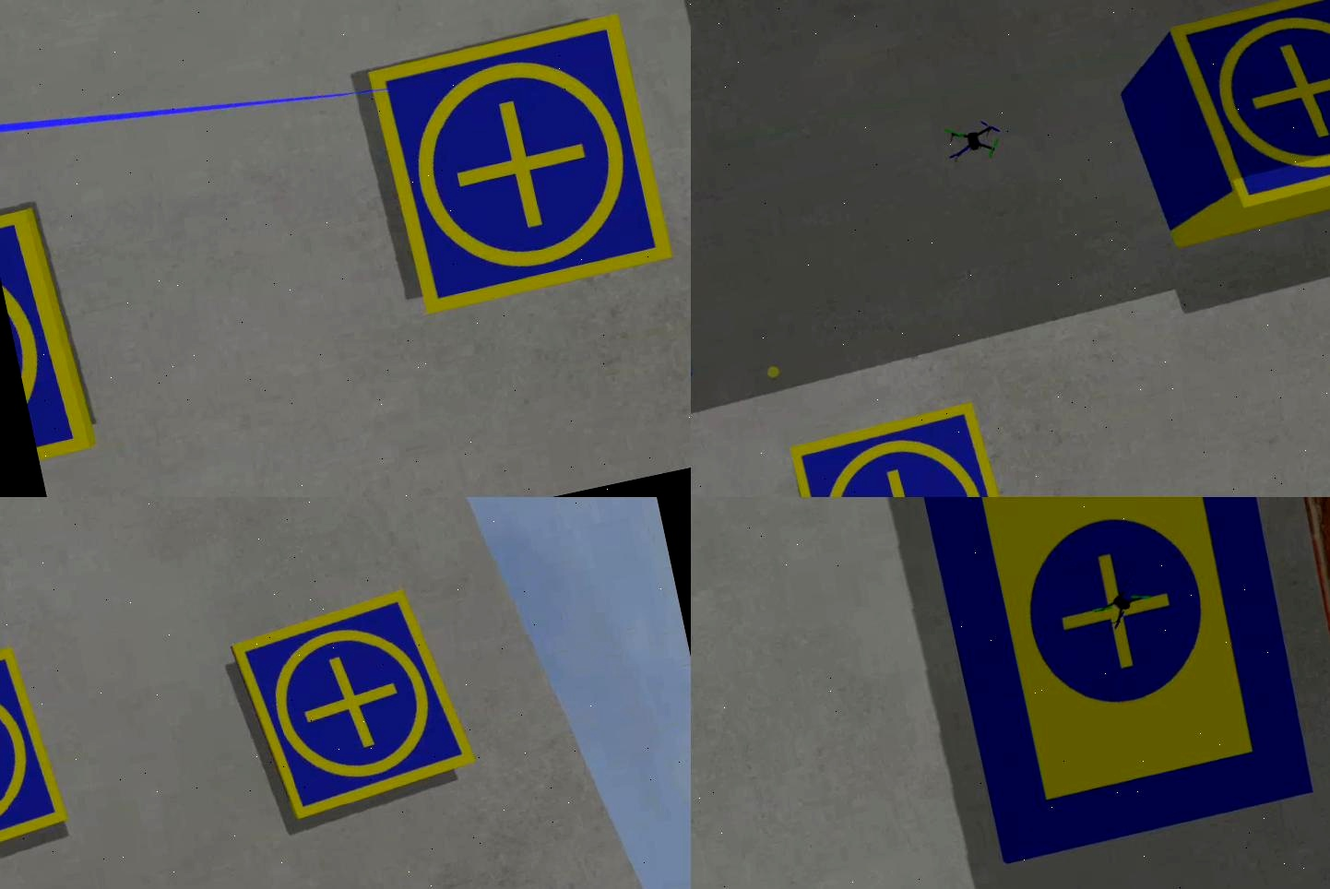large_base: (904, 498, 1324, 864)
small_base: (363, 10, 678, 315), (226, 583, 485, 827), (1167, 1, 1330, 219), (1, 197, 101, 465), (789, 398, 1027, 498), (1, 642, 77, 883)
